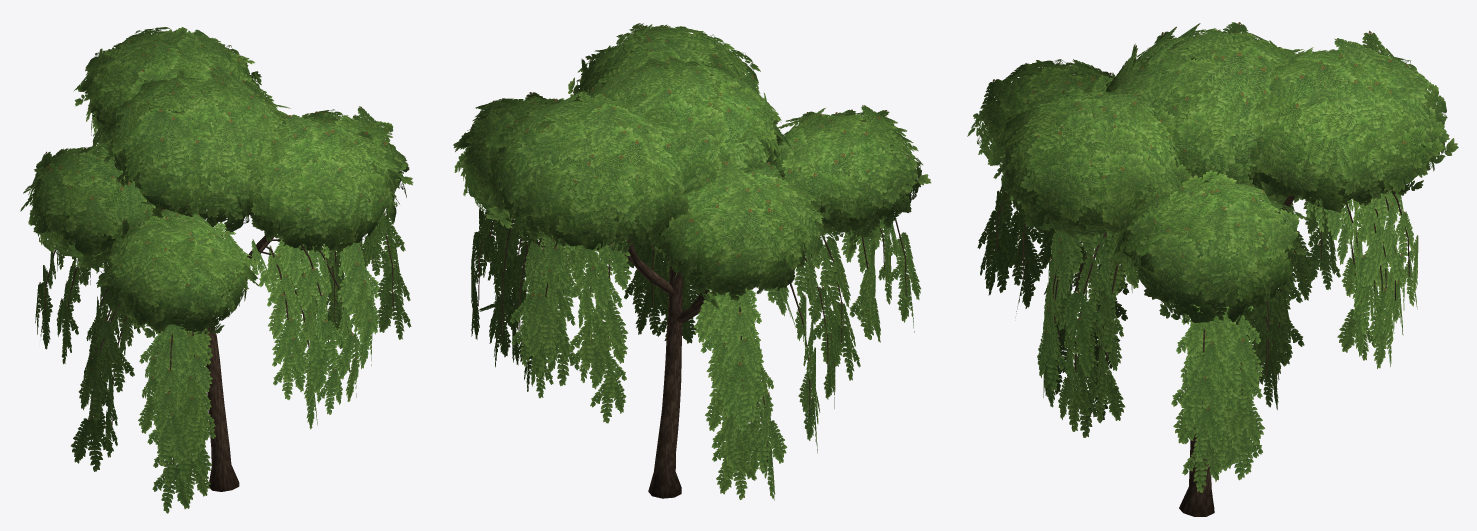
The model's file is keora_b.glb.
The picture shows the model from 3 angles, left to right: view 1: azimuth 30°, elevation 25°; view 2: azimuth 150°, elevation 25°; view 3: azimuth 270°, elevation 25°; orthographic projection. The views are drawn at different scales.
Visible parts, largest first — view 1: leaves, wood; view 2: leaves, wood; view 3: leaves, wood.
Part boxes in pixels (x1=…): leaves: x1=20, y1=27, x2=413, y2=513; wood: x1=45, y1=206, x2=393, y2=491; leaves: x1=453, y1=23, x2=931, y2=500; wood: x1=478, y1=217, x2=906, y2=498; leaves: x1=967, y1=22, x2=1458, y2=492; wood: x1=996, y1=189, x2=1409, y2=516.
Bounding box in the file's own units: 10.06 × 10.3 × 9.91.
2 materials, 2 textured.
